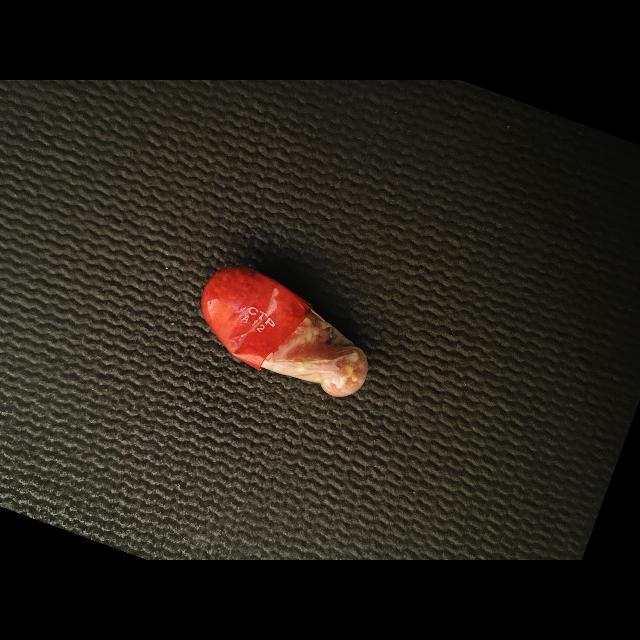Defective Capsule: (201, 266, 368, 397)
